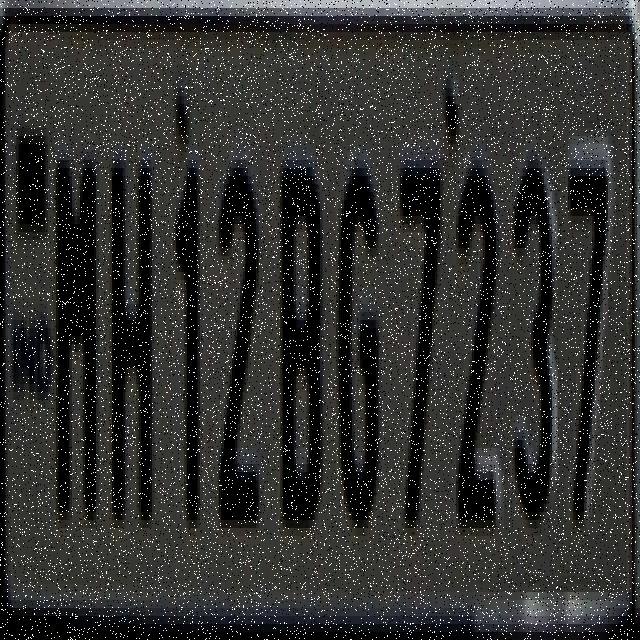licenseplate: (1, 14, 634, 636)
